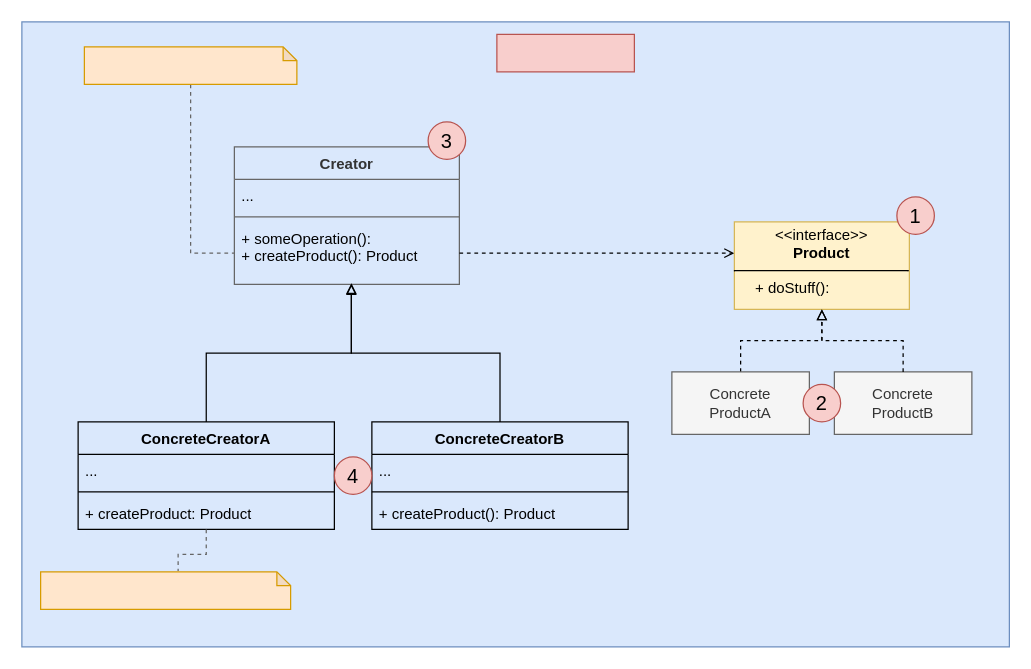
This 1031x669 diagram has some shape labels left out. The shapes that lost their labels are listed below. From the top down, each one's centre as x and y in pixels, then its label:
At point (190, 65): "Product p = createProduct() p.doStuff()".
At point (565, 52): "Factory-Method".
At point (165, 590): "return new ConcreteProductA()".
